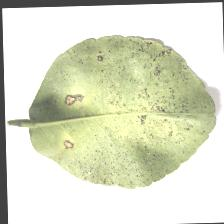canker: (46, 79, 102, 163)
